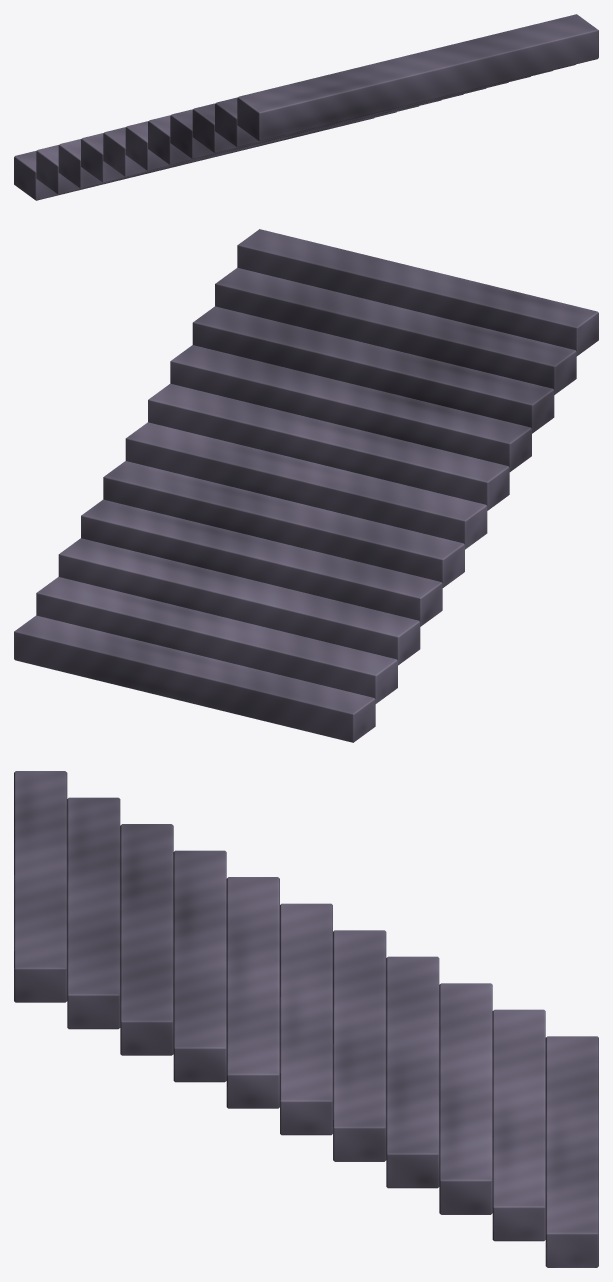
The model's file is Furn_Dun_StairsDown.fbx.
3 views of the same model, one above another, from view 1: azimuth 30°, elevation 25°; view 2: azimuth 150°, elevation 25°; view 3: azimuth 270°, elevation 25° (orthographic). The views are drawn at different scales.
Parts seen in each view (by area): view 1: Furn_Dun_StairsDown; view 2: Furn_Dun_StairsDown; view 3: Furn_Dun_StairsDown.
Part boxes in pixels (bbox=[...]): Furn_Dun_StairsDown: bbox=[14, 14, 598, 200]; Furn_Dun_StairsDown: bbox=[14, 229, 598, 742]; Furn_Dun_StairsDown: bbox=[14, 771, 598, 1267].
Bounding box in the file's own units: 2.4 × 1.7 × 3.
Materials: 1 (1 with a texture image).
